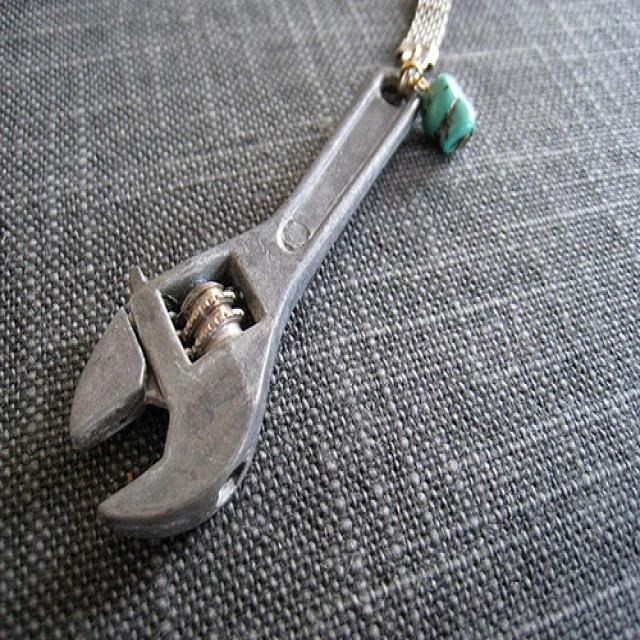wrench: (58, 72, 408, 548)
